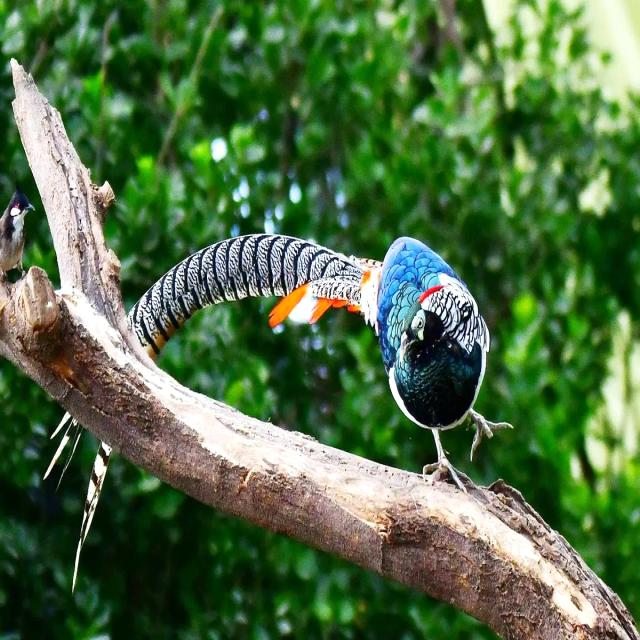Chrysolophus amherstiae: (129, 234, 361, 358)
